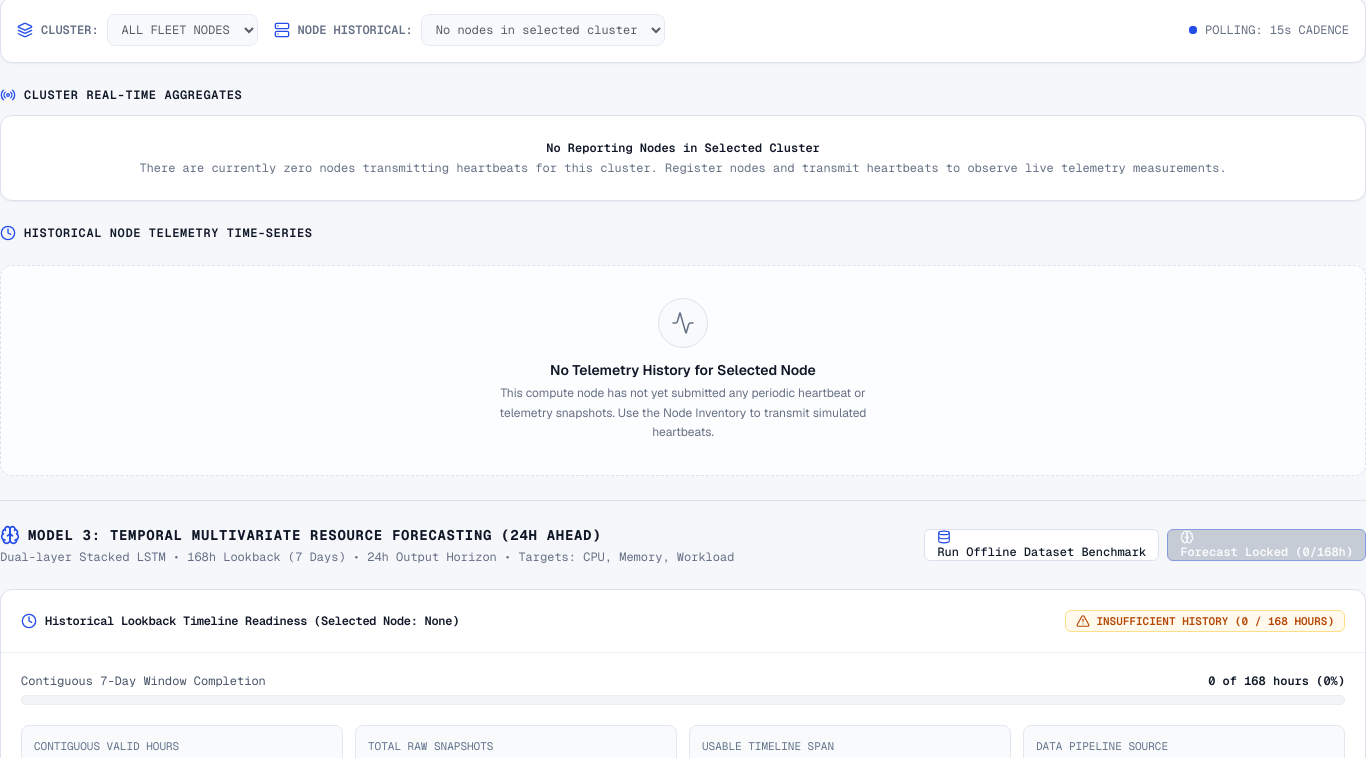
Telemetry Page — History Readiness & Forecasting Guardrails › allows running the offline historical dataset benchmark without modifying live state
The image size is (1366, 758).
Click the button "Run Offline Dataset Benchmark" at (1042, 544), box [924,528,1159,560]
(page scrolled)
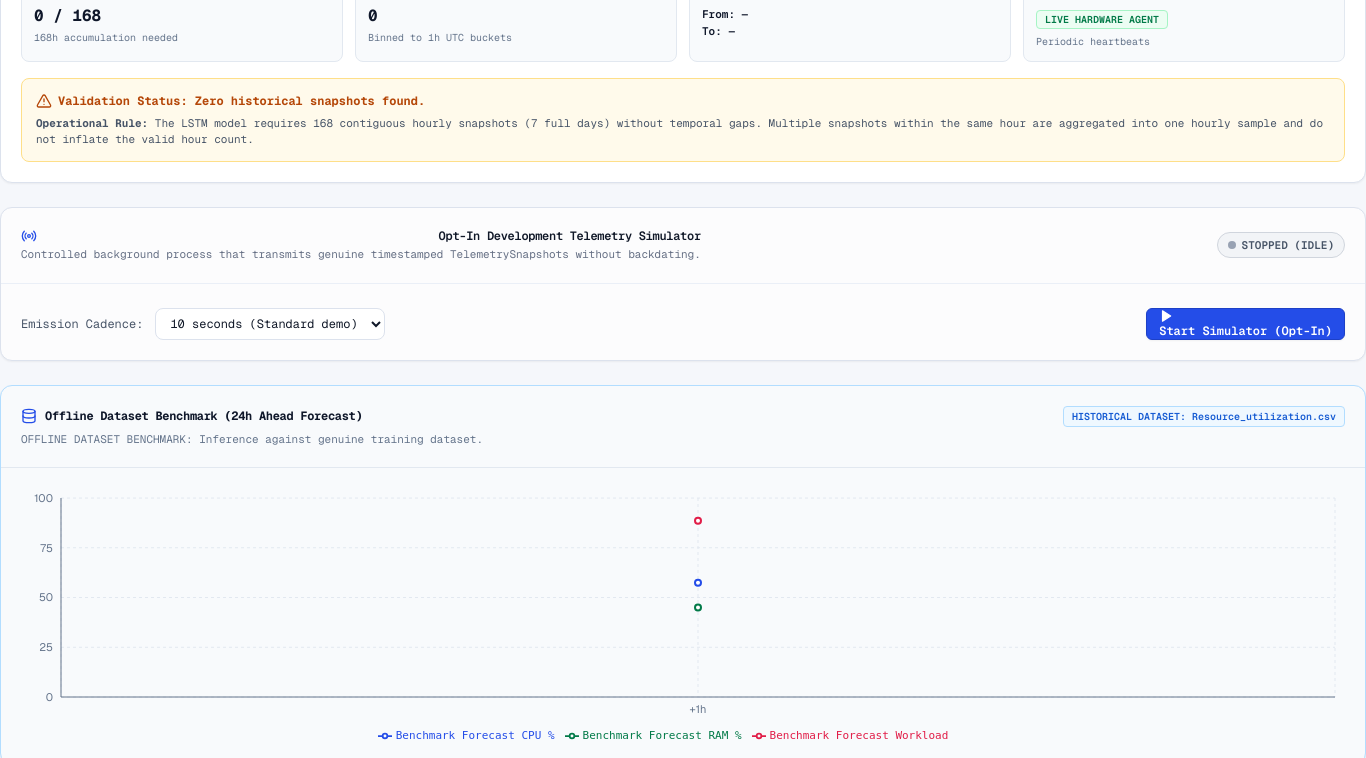
Expected: the text "HISTORICAL DATASET: Resource_utilization.csv" is shown, [1063,406,1345,426]
Expected: the text "Offline Dataset Benchmark (24h Ahead Forecast)" is shown, [45,408,362,424]
